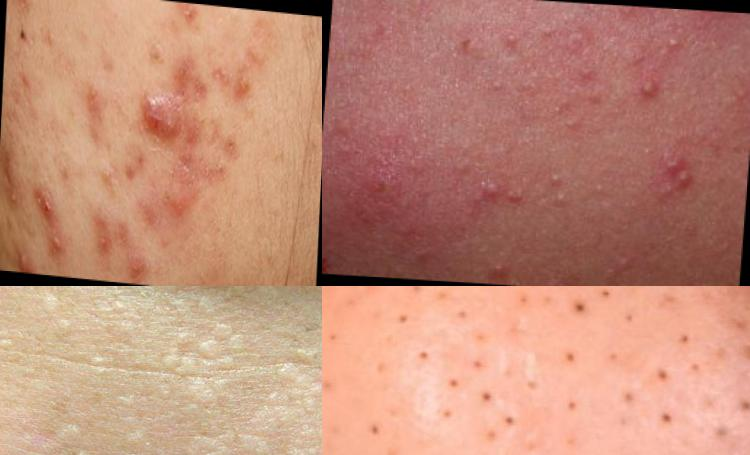blackhead: (434, 393, 548, 447), (436, 344, 512, 419), (646, 328, 714, 391), (382, 287, 440, 332), (642, 398, 692, 439), (559, 292, 599, 326), (554, 339, 590, 372), (555, 392, 591, 422), (356, 413, 389, 445), (611, 381, 640, 413), (157, 182, 177, 218), (591, 445, 658, 455)
flat_wart: (248, 336, 323, 429), (157, 315, 251, 387), (103, 381, 159, 451), (181, 416, 278, 455), (28, 289, 85, 345), (38, 407, 103, 455), (282, 425, 323, 455)
papular: (466, 163, 546, 222), (649, 150, 712, 204)
purulent: (627, 67, 674, 111), (9, 246, 36, 273), (6, 186, 22, 220)
sebo-crystan-conglo: (131, 82, 185, 143)
whitehead: (493, 24, 545, 64), (544, 169, 581, 219)
